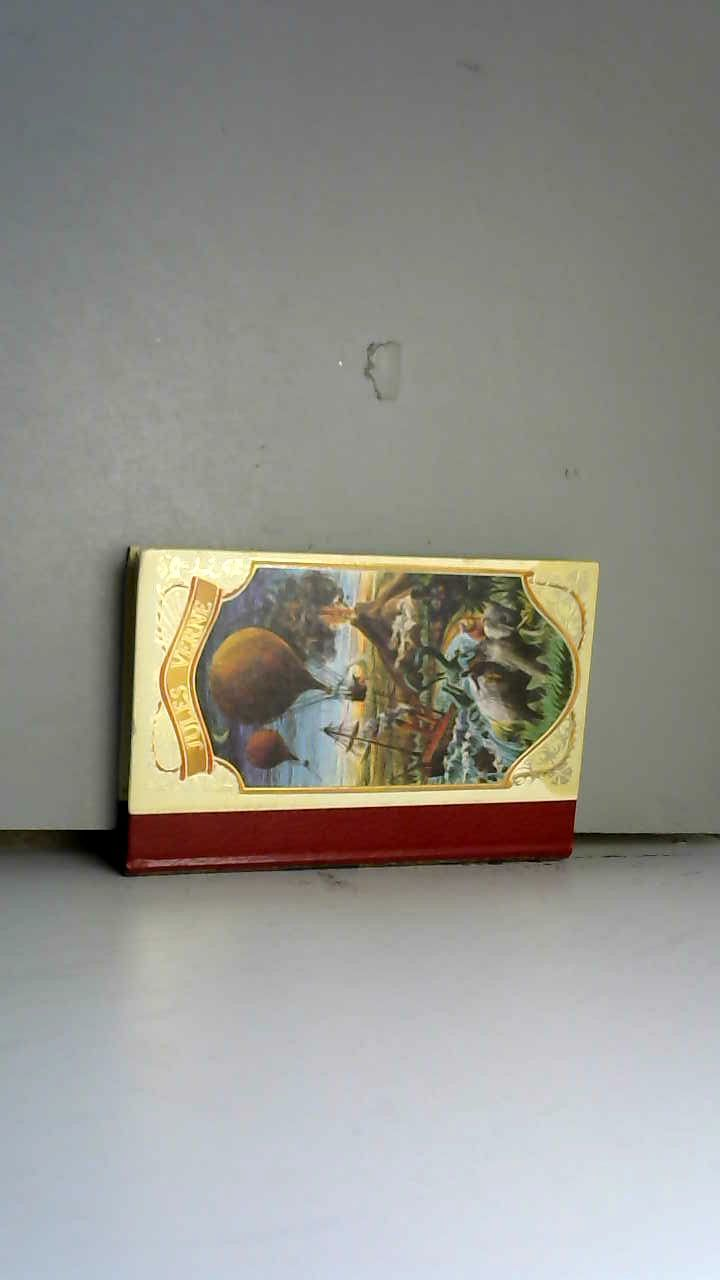book: (101, 531, 610, 897)
